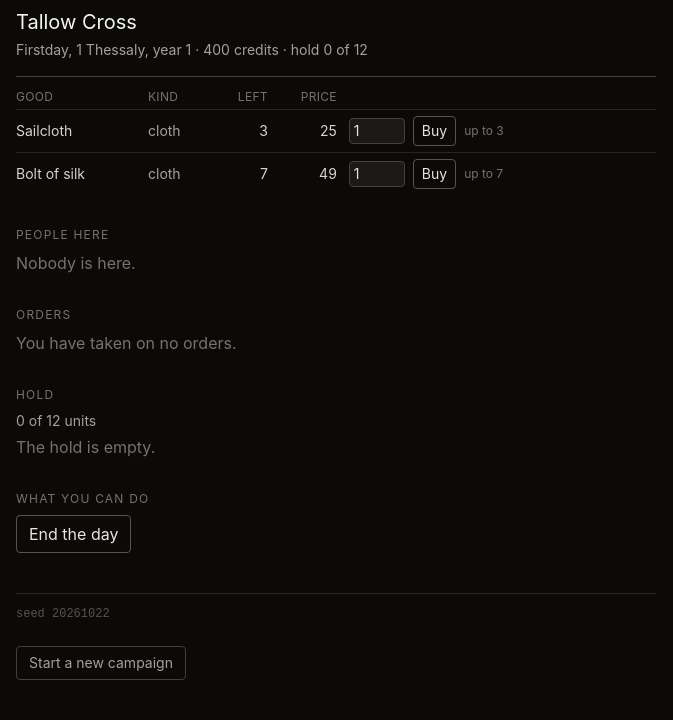
Test: starting a new campaign on another set › offers no picker when the manifest lists one set
The width and height of the screenshot is (673, 720).
(page scrolled)
Click the button "Start a new campaign".
click(101, 663)  # box [16,646,186,680]
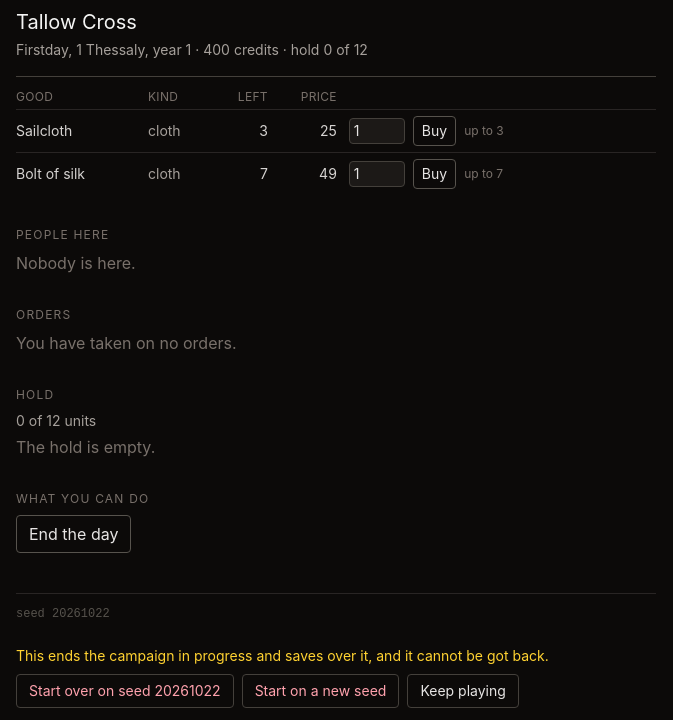
Result: the text "ends the campaign in progress" is shown at [16,647,549,664]
